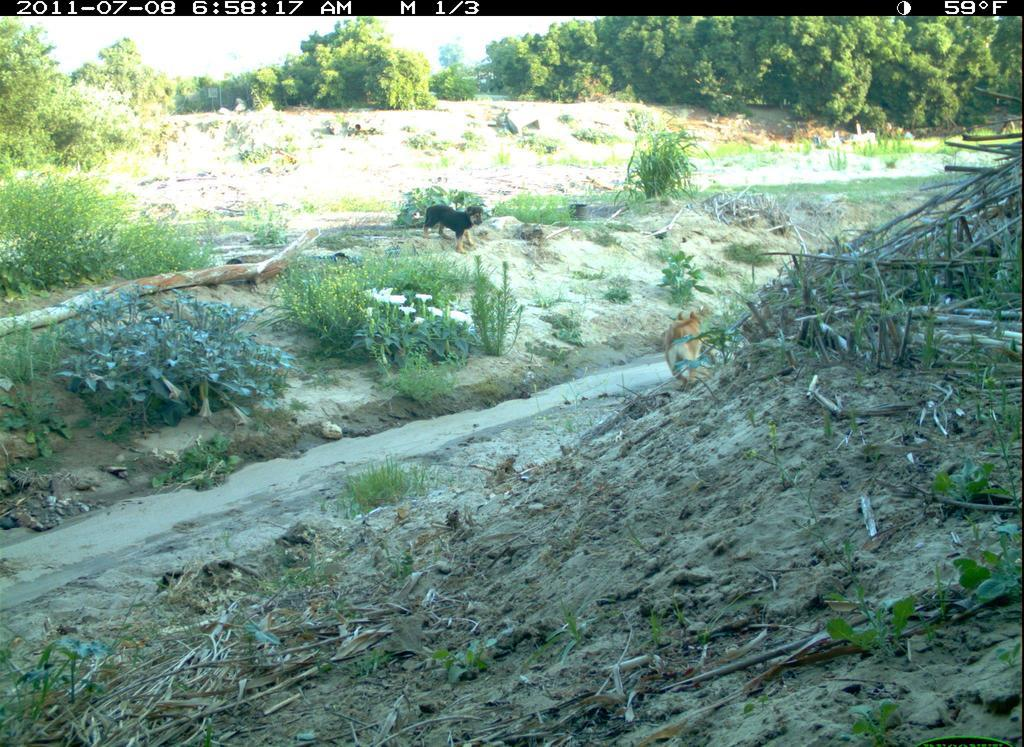dog: (418, 199, 487, 259), (660, 311, 707, 393)
